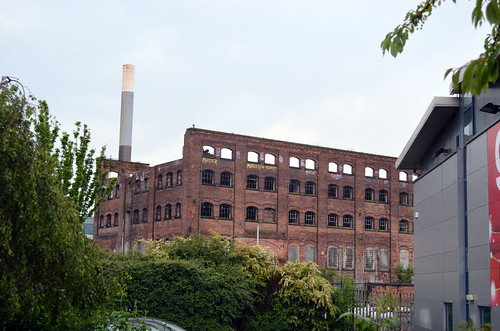building: (87, 141, 410, 293)
chimney: (117, 58, 137, 163)
sky: (16, 1, 428, 138)
